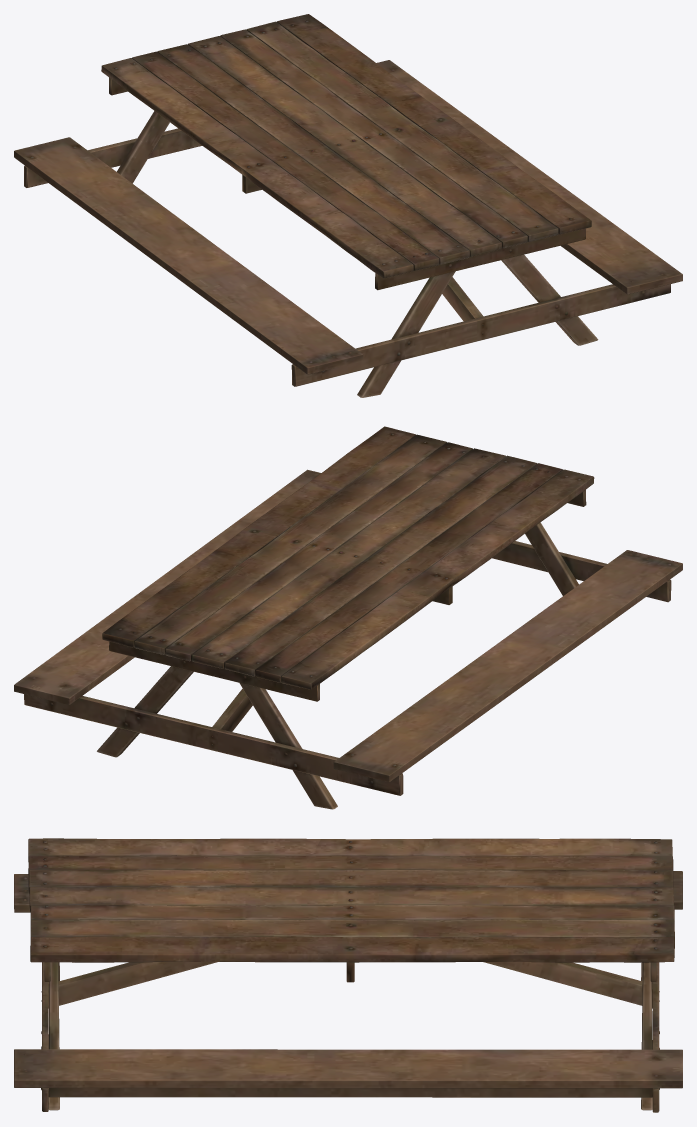
Rendered from picnic.glb.
3 renders of one model, top to bottom at view 1: azimuth 30°, elevation 25°; view 2: azimuth 150°, elevation 25°; view 3: azimuth 270°, elevation 25°, orthographic. The views are drawn at different scales.
Visible parts, largest first — view 1: wooden_picnic_table; view 2: wooden_picnic_table; view 3: wooden_picnic_table.
Boxes of the visible parts, bbox=[...] form: wooden_picnic_table: bbox=[14, 14, 682, 397]; wooden_picnic_table: bbox=[14, 426, 682, 809]; wooden_picnic_table: bbox=[14, 838, 682, 1112].
Bounding box in the file's own units: 2.24 × 0.746 × 3.02.
Materials: 2 (2 with a texture image).
